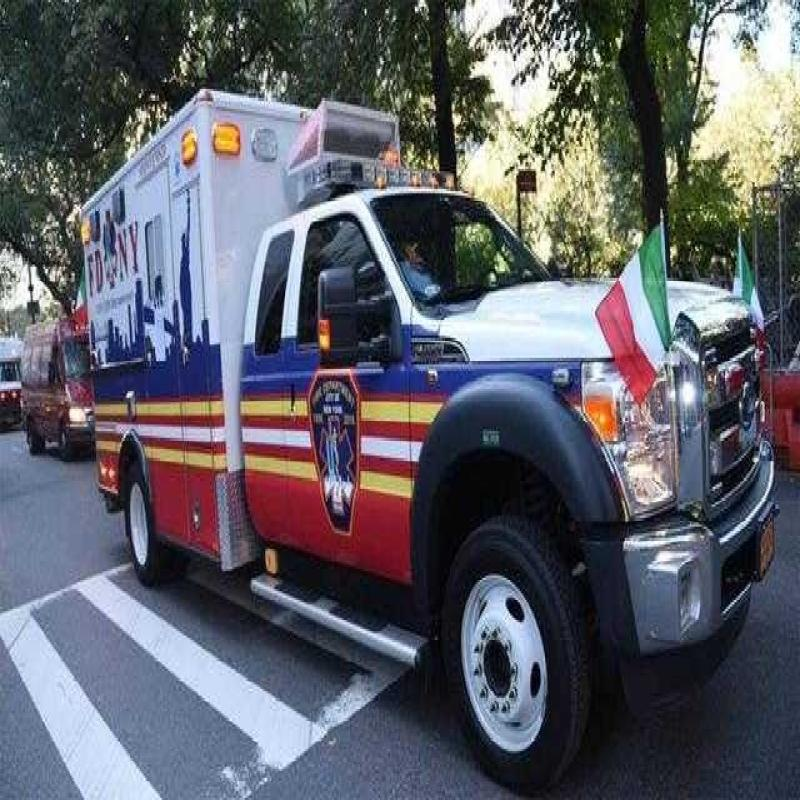AmbulanceSiren: (310, 136, 443, 204)
